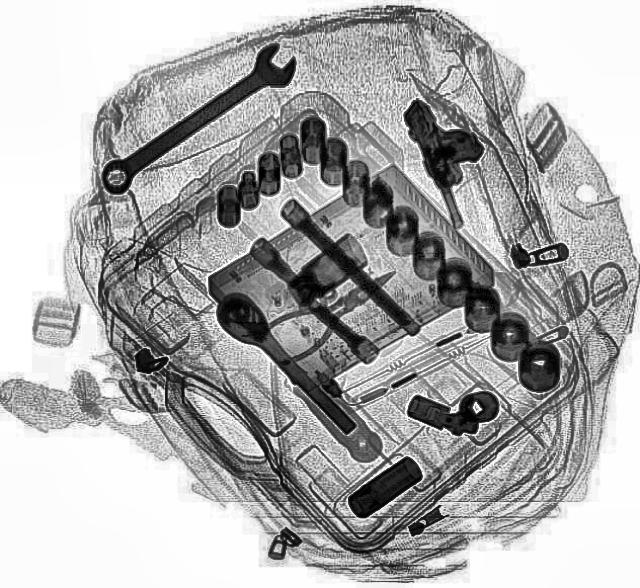Gun: (394, 87, 510, 232)
Pliers: (253, 255, 412, 370)
Wrench: (90, 38, 306, 204)
